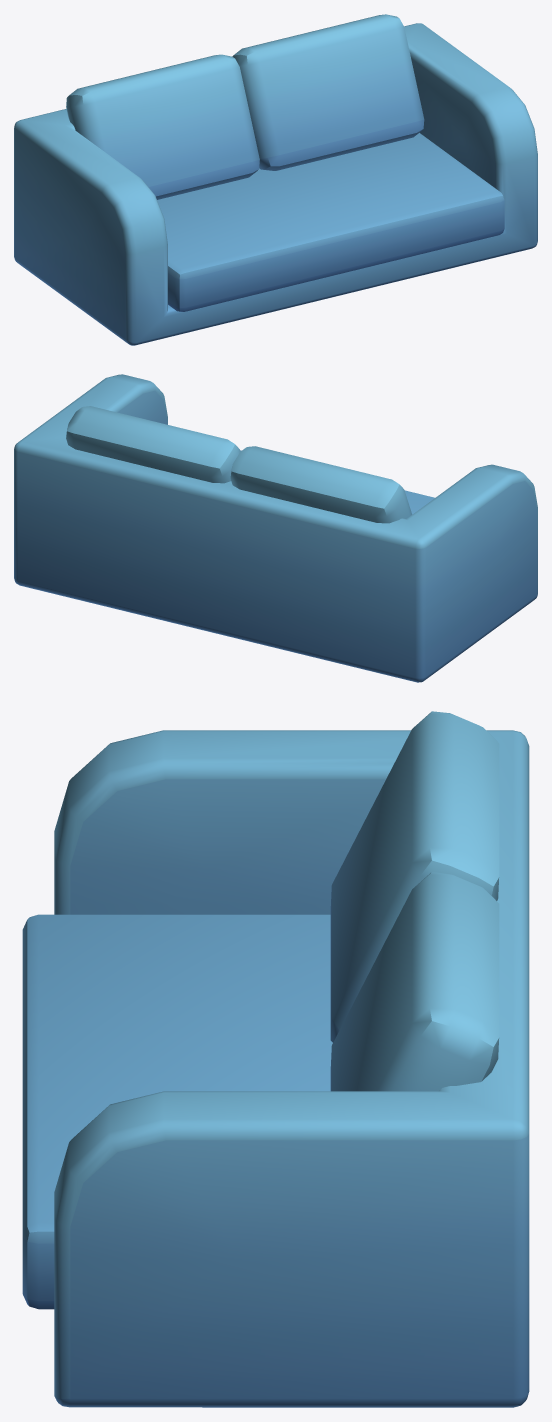
The model's file is sofa.glb.
The picture shows the model from 3 angles, top to bottom: view 1: azimuth 30°, elevation 25°; view 2: azimuth 150°, elevation 25°; view 3: azimuth 270°, elevation 25°; orthographic projection. The views are drawn at different scales.
Visible parts, largest first — view 1: couch; view 2: couch; view 3: couch.
Boxes of the visible parts, x1,y1,x2,y2 form: couch: (14,14,537,345); couch: (14,374,537,682); couch: (22,711,529,1407).
Bounding box in the file's own units: 3 × 1.22 × 1.6.
1 material, 1 textured.
